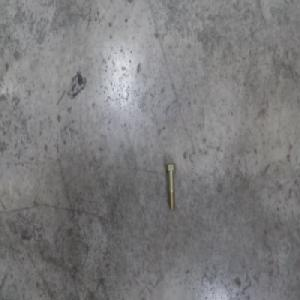Bolt: (164, 162, 176, 210)
